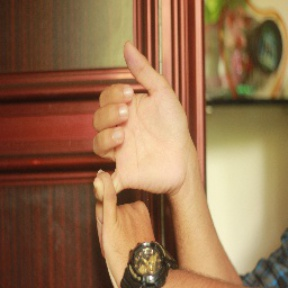S: (82, 41, 198, 284)
